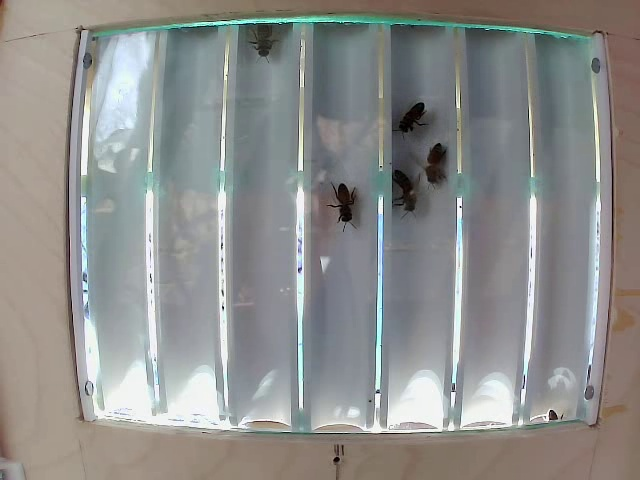bee: (321, 173, 370, 233), (385, 159, 423, 224), (423, 143, 454, 184), (397, 93, 429, 130)
